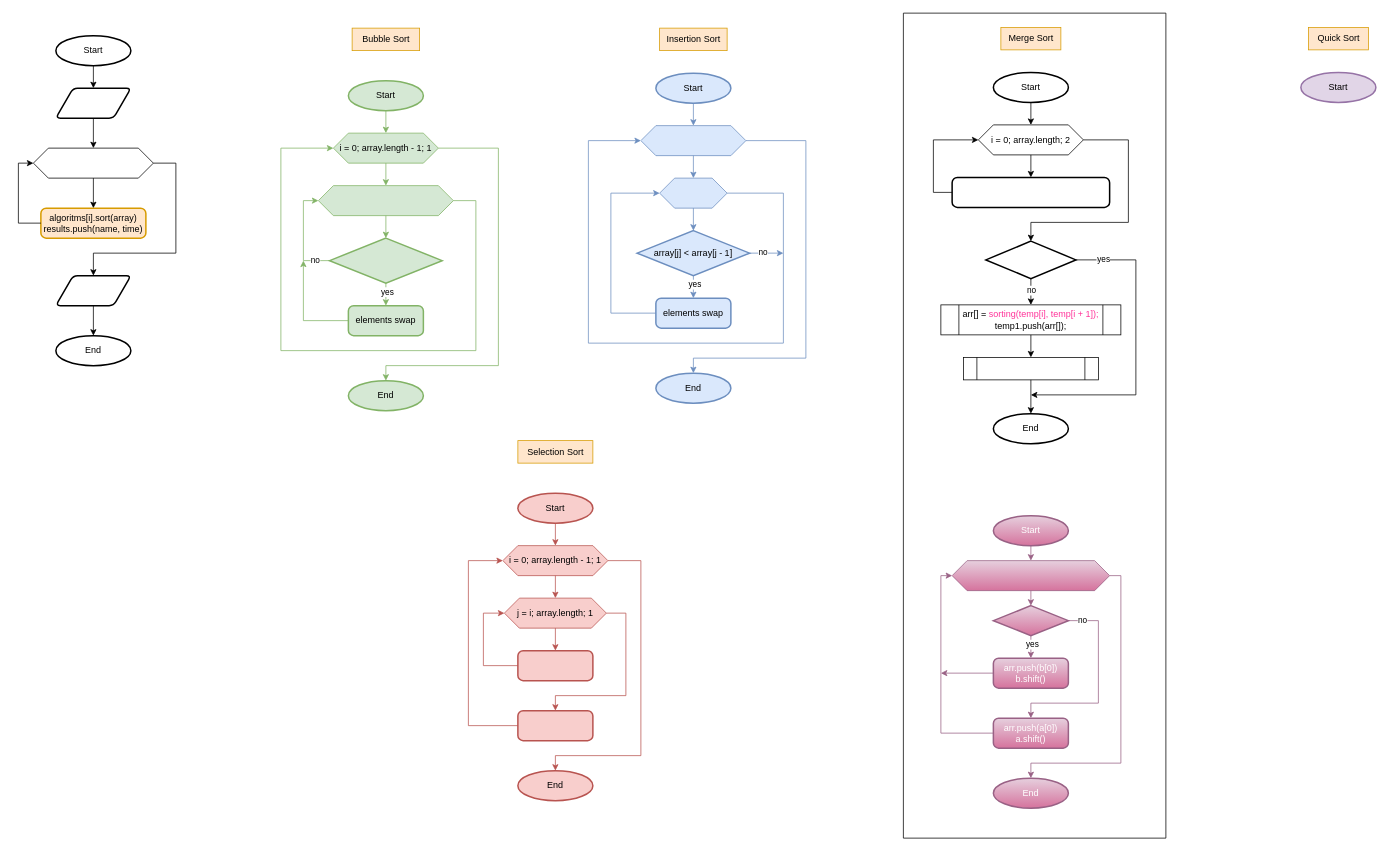
This 1390x852 diagram has some shape labels left out. The centre of each missing label's shape, as x and y in pixels:
a.length !== 0 || b.length !== 0: point 1030,575
a[0] >= b[0]: point 1030,620
array[i] = min: point 555,725
array[j] > array[j + 1]: point 385,260
i = 0; algoritms; 1: point 93,162
i = 1; array.length; 1: point 693,140
input: array: point 93,102
j = 0; array.length - 1 - i; 1: point 385,200
j = i; 0; -1: point 693,192
output: results: point 93,290
search min: point 555,665
temp = Array.from(temp1): point 1030,368
temp.length > 1: point 1030,259
temp.push(array.slice(i, i + 2).sort();: point 1030,192
